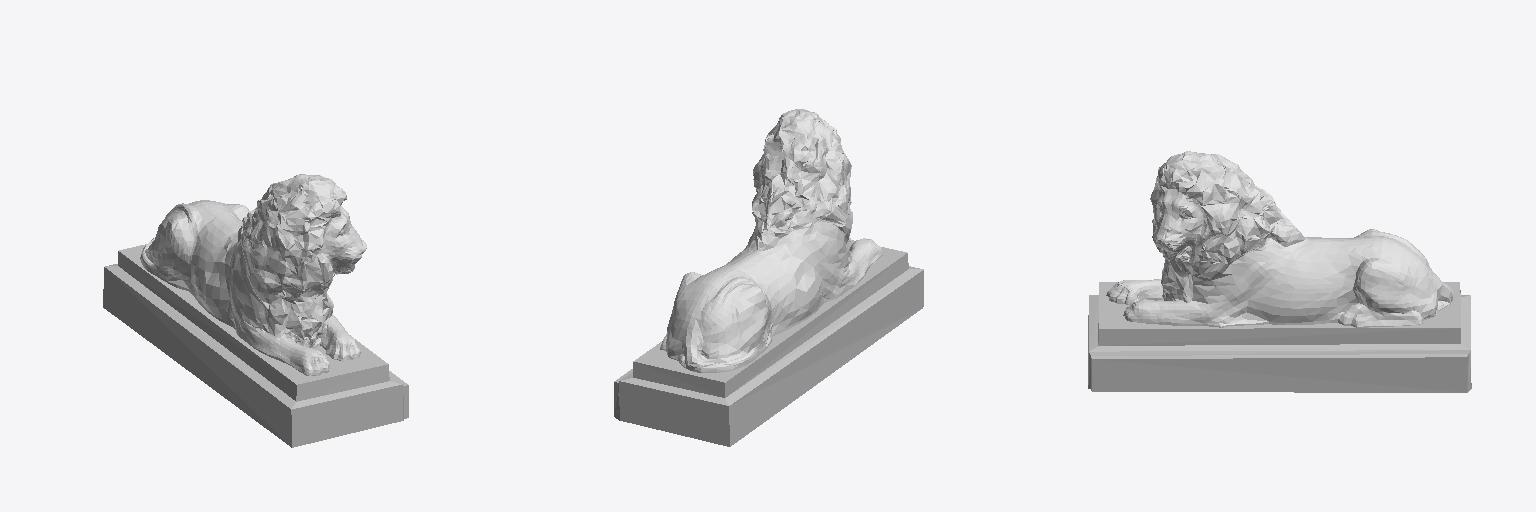
Rendered from lion-statue.obj.
The picture shows the model from 3 angles: view 1: azimuth 30°, elevation 25°; view 2: azimuth 150°, elevation 25°; view 3: azimuth 270°, elevation 25°; orthographic projection.
Parts seen in each view (by area): view 1: Lion, Base; view 2: Lion, Base; view 3: Lion, Base.
Boxes of the visible parts, box(x1,y1,x2,y2) form: Lion: box(140, 174, 366, 375); Base: box(103, 244, 408, 447); Lion: box(660, 109, 883, 372); Base: box(614, 240, 923, 446); Lion: box(1106, 151, 1453, 327); Base: box(1088, 282, 1471, 392).
Size of the model in its own units: 3.26 by 5.55 by 8.98.